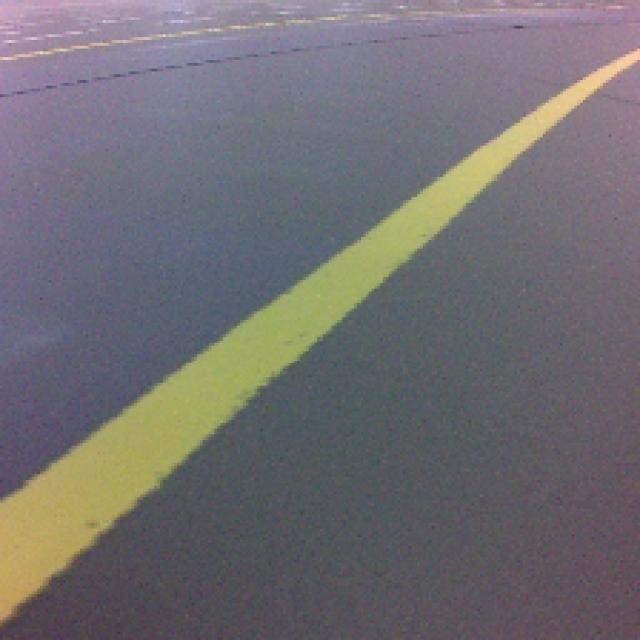Guard rail: (0, 166, 488, 622)
